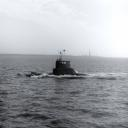submarine: (25, 49, 92, 79)
